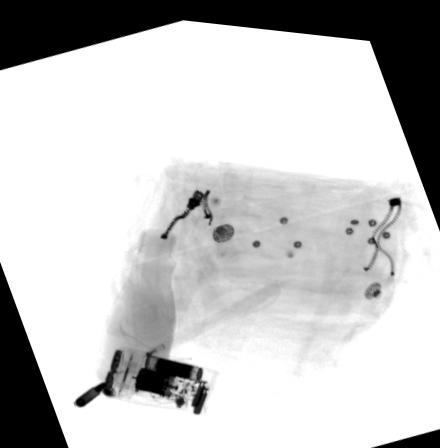Bullet: (70, 376, 110, 406)
